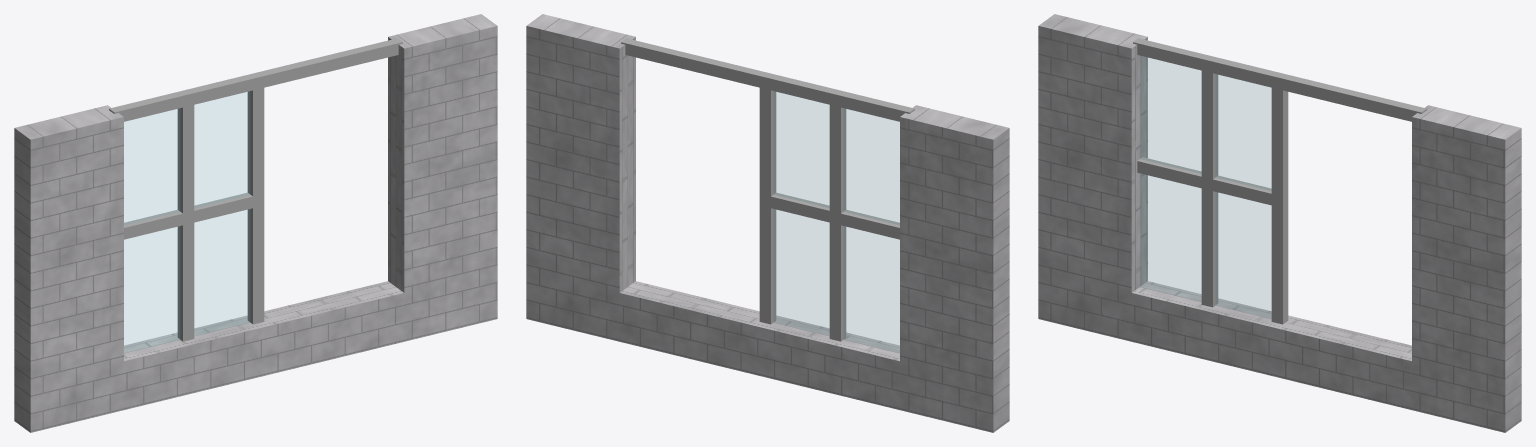
The model's file is cinderBlockWindowOpen.glb.
The picture shows the model from 3 angles, left to right: view 1: azimuth 30°, elevation 25°; view 2: azimuth 150°, elevation 25°; view 3: azimuth 330°, elevation 25°; orthographic projection.
Visible parts, largest first — view 1: Cube.005; view 2: Cube.005; view 3: Cube.005.
Part boxes in pixels (box(x1,y1,x2,y2)): Cube.005: box(14, 14, 497, 432); Cube.005: box(526, 14, 1009, 432); Cube.005: box(1038, 14, 1521, 432).
Size of the model in its own units: 10 by 6.03 by 0.6.
3 materials, 1 textured.
